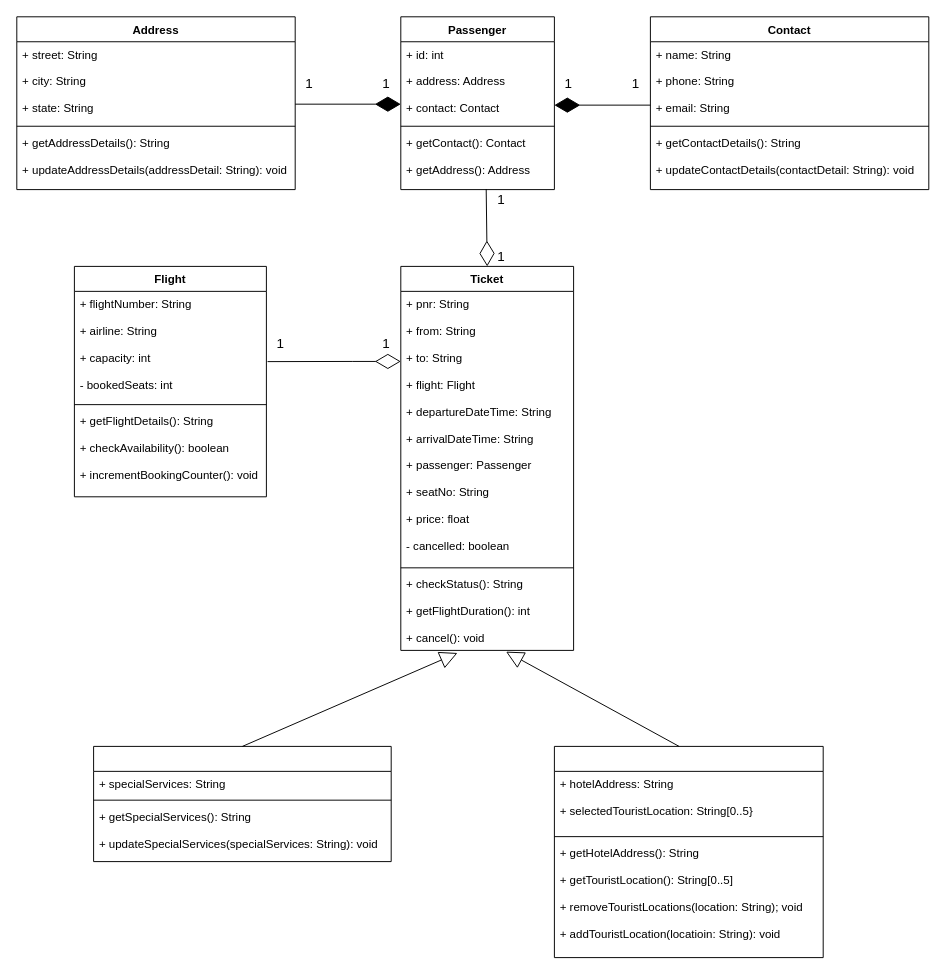
The diagram is 946 pixels wide and 977 high, and some of its shapes have lost their labels. Each missing label, with the box of its shape:
RegularTicket: (93, 745, 391, 862)
TouristTicket: (553, 745, 823, 958)
